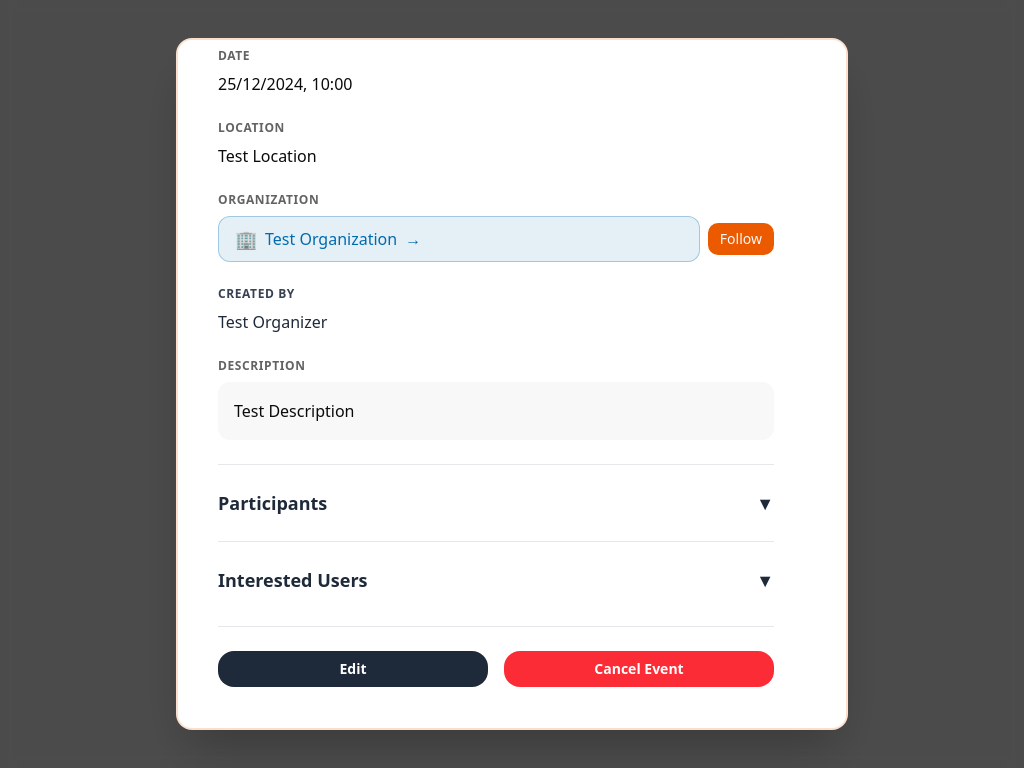
it: EventModal › Participation Features › Edit Modal › opens edit modal and pre-fills form
(page scrolled)
Note: Click Edit
Step 1. Click the button "Edit" → (353, 669), box [218,651,488,687]
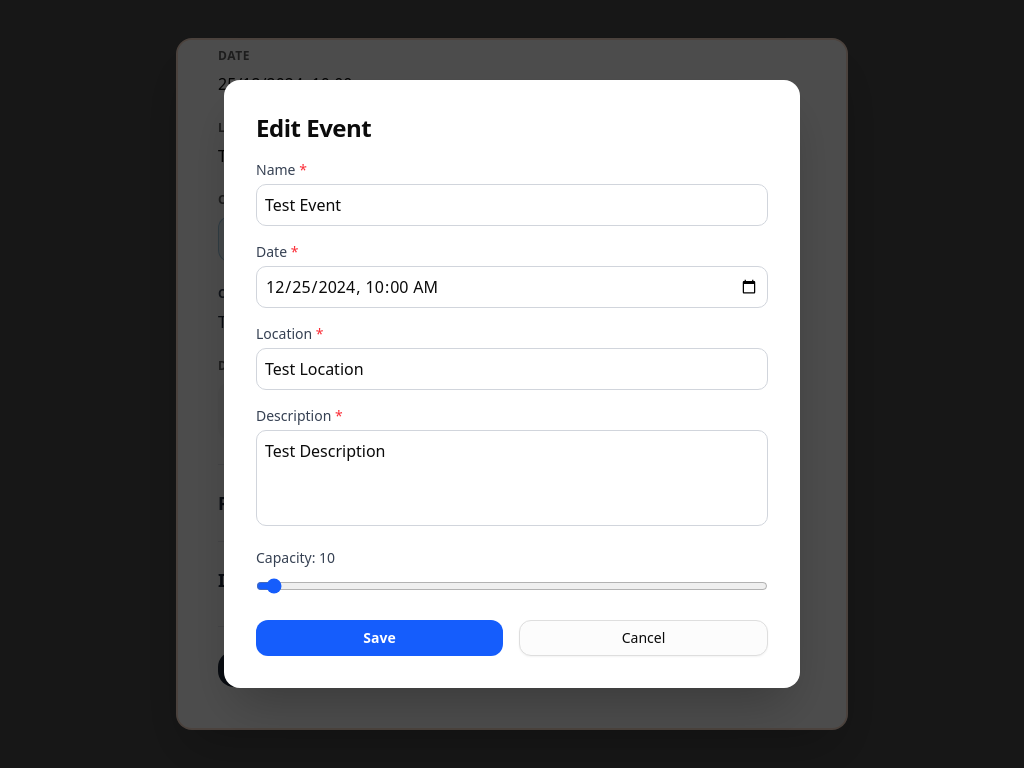
Result: the field showing "Test Event" below "Name" is shown at [256,184,768,226]
Result: the 2nd field showing "2024-12-25T10:00" is shown at [256,266,768,308]
Result: the 3rd field showing "Test Location" is shown at [256,348,768,390]
